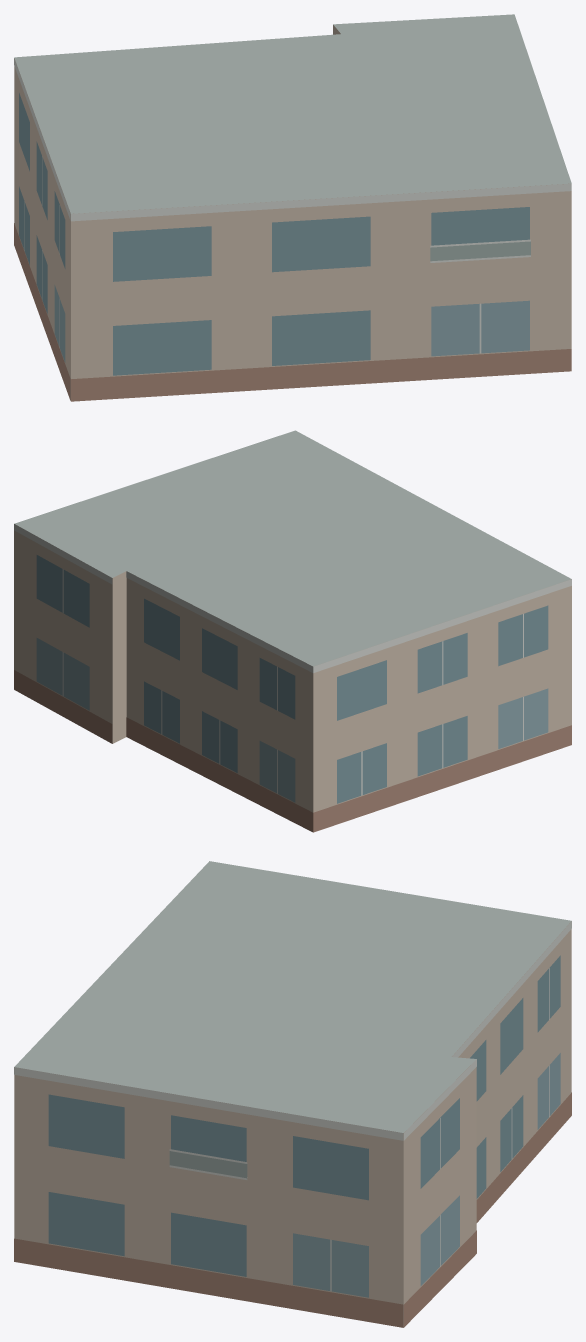
The model's file is survey-upis-32868975.glb.
3 renders of one model, top to bottom at view 1: azimuth 30°, elevation 25°; view 2: azimuth 150°, elevation 25°; view 3: azimuth 270°, elevation 25°, orthographic. The views are drawn at different scales.
Parts seen in each view (by area): view 1: survey-upis-32868975.tmp; view 2: survey-upis-32868975.tmp; view 3: survey-upis-32868975.tmp.
Boxes of the visible parts, box(x1,y1,x2,y2) form: survey-upis-32868975.tmp: box(14, 14, 571, 401); survey-upis-32868975.tmp: box(14, 430, 571, 832); survey-upis-32868975.tmp: box(14, 861, 571, 1327).
Size of the model in its own units: 18.29 by 6.1 by 15.84.
